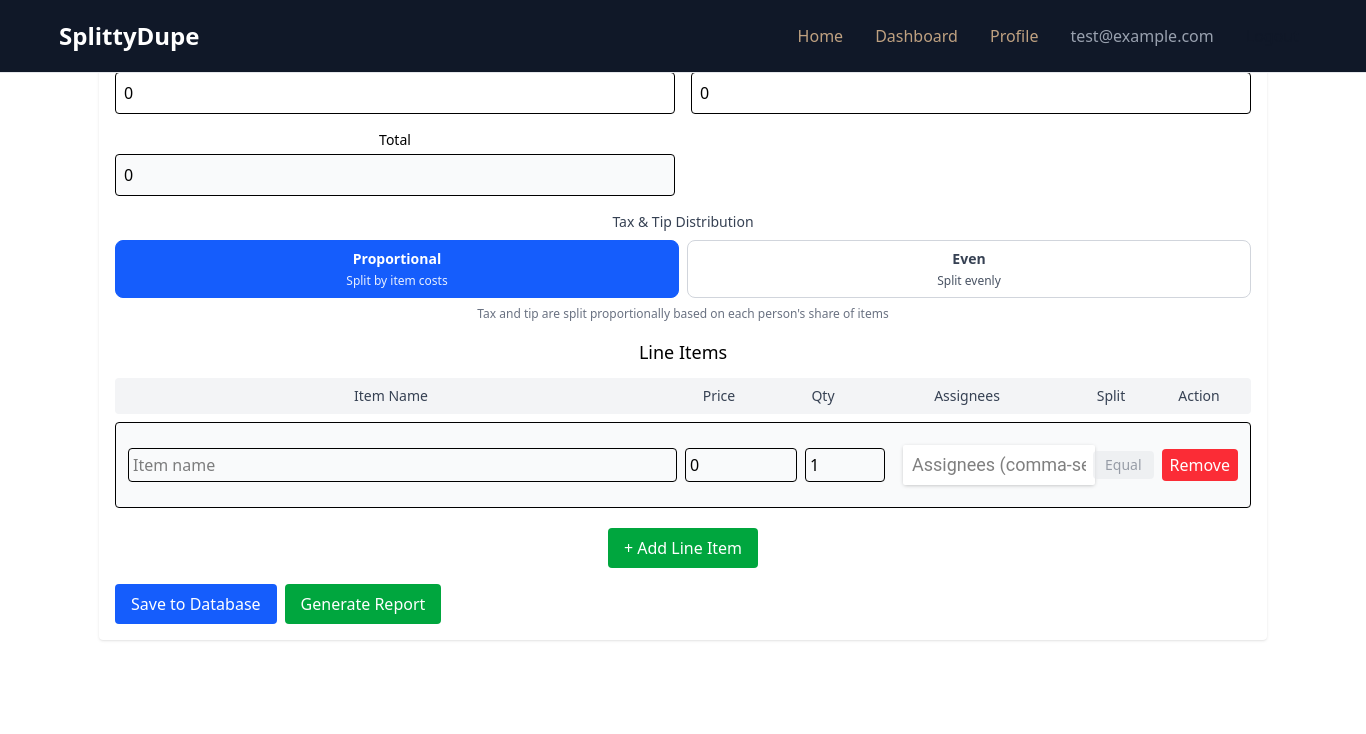
Home Page Integration Tests › should show error message when save fails
This screenshot has width=1366, height=734.
Click the button "Save to Database" at (196, 604), box [115,584,277,624]
(page scrolled)
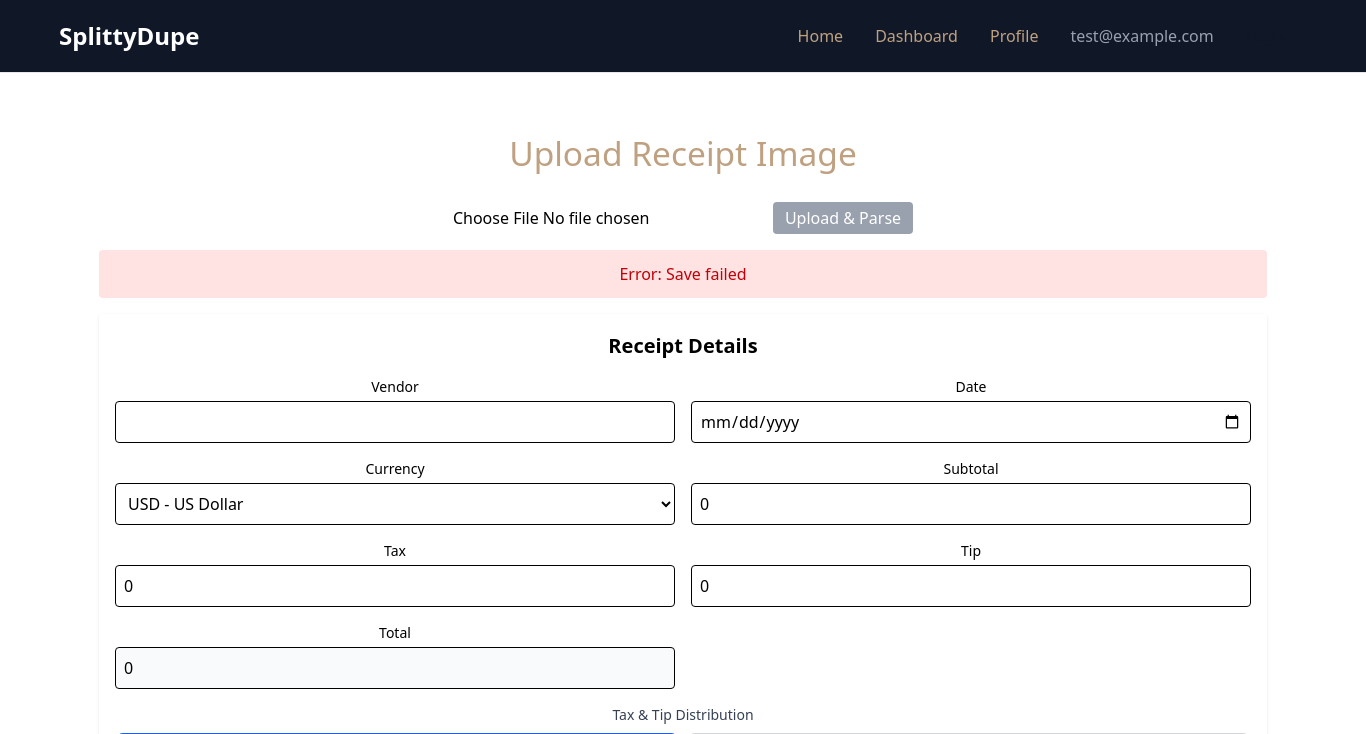
Check: the text "Error: Save failed" is shown, box [99,250,1267,298]
